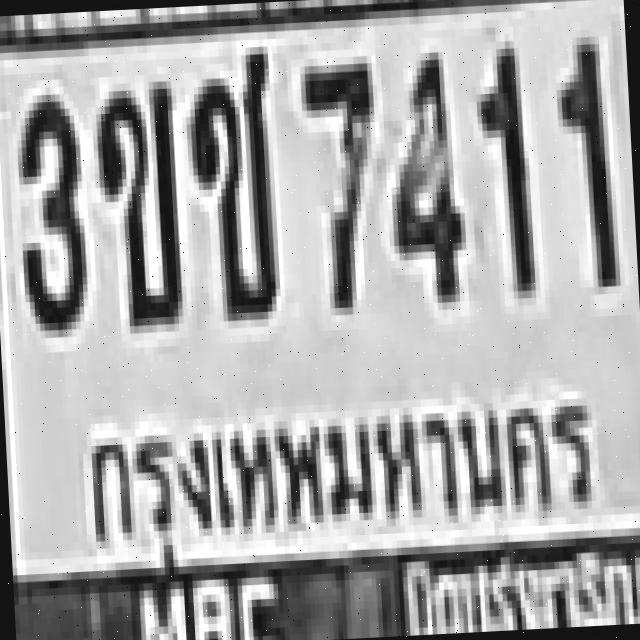1: (474, 40, 535, 298), (554, 33, 612, 285)
11KhorKhai: (90, 77, 185, 330)
19ChorChang: (183, 46, 283, 324)
3: (12, 95, 91, 334)
4: (379, 44, 466, 306)
7: (302, 57, 382, 310)
Bangkok: (62, 362, 610, 588)
